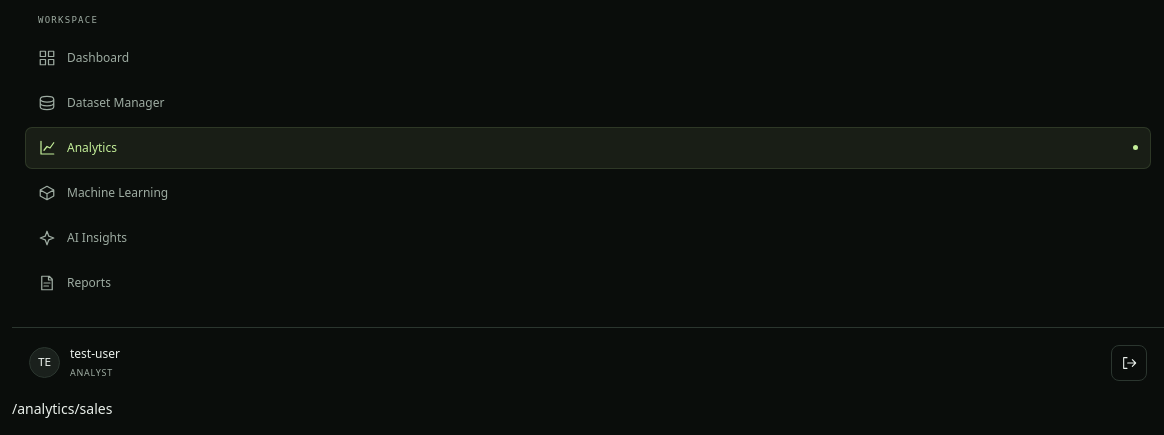
workspace navigation › keeps the active section and scoped query while closing a mobile menu on navigation
Click the link "Dataset Manager" at (101, 103), box [38,94,164,112]
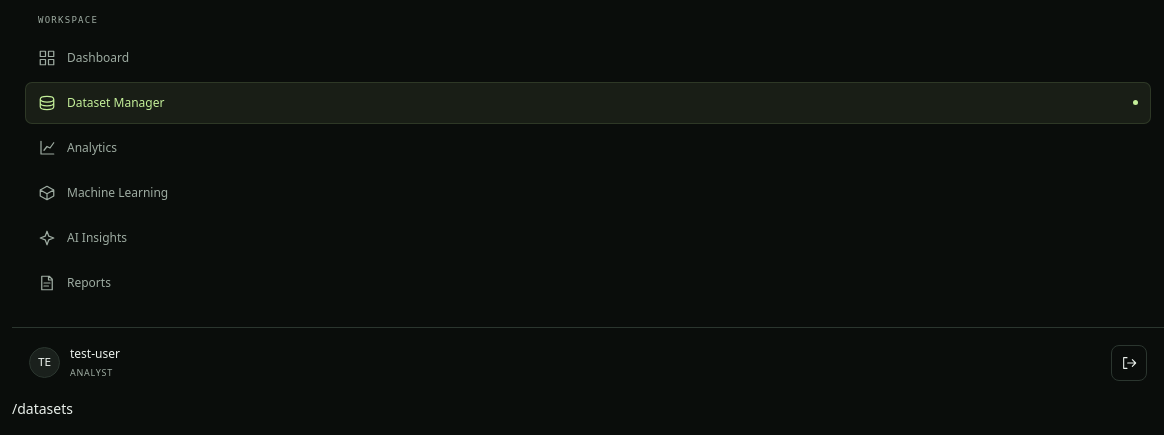
Expected: the text named "Current route" reads "/datasets", [12,399,73,418]
